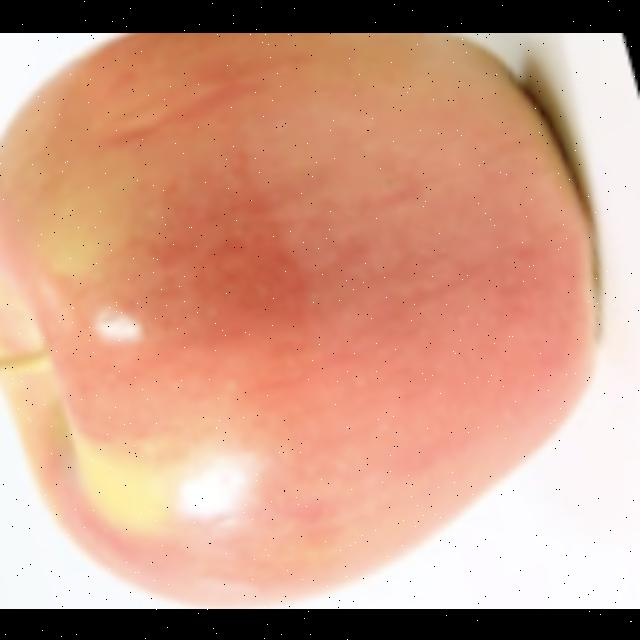Apel Segar: (0, 32, 588, 608)
